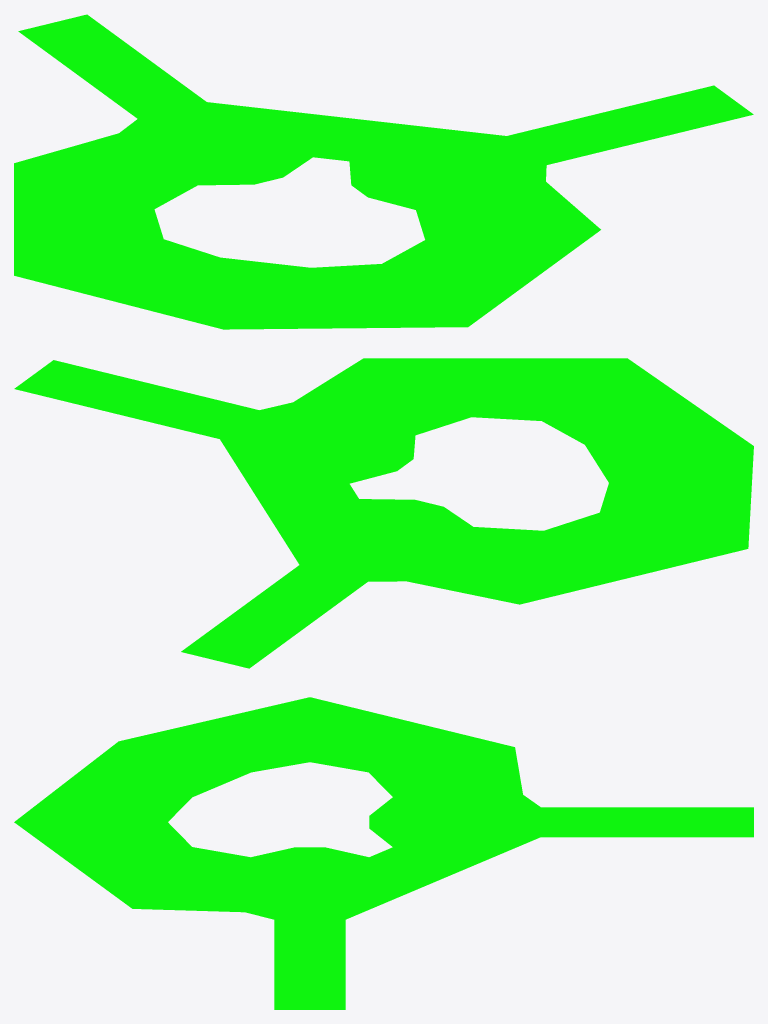
Rendered from s06b_lb1-floor.glb.
3 views of the same model, one above another, from view 1: azimuth 30°, elevation 25°; view 2: azimuth 150°, elevation 25°; view 3: azimuth 270°, elevation 25° (orthographic). The views are drawn at different scales.
Parts seen in each view (by area): view 1: collision_floor-colonly; view 2: collision_floor-colonly; view 3: collision_floor-colonly.
Boxes of the visible parts, x1,y1,x2,y2 form: collision_floor-colonly: [14, 14, 753, 329]; collision_floor-colonly: [14, 358, 753, 668]; collision_floor-colonly: [14, 697, 753, 1009].
Size of the model in its own units: 62.5 by 0 by 62.5.
